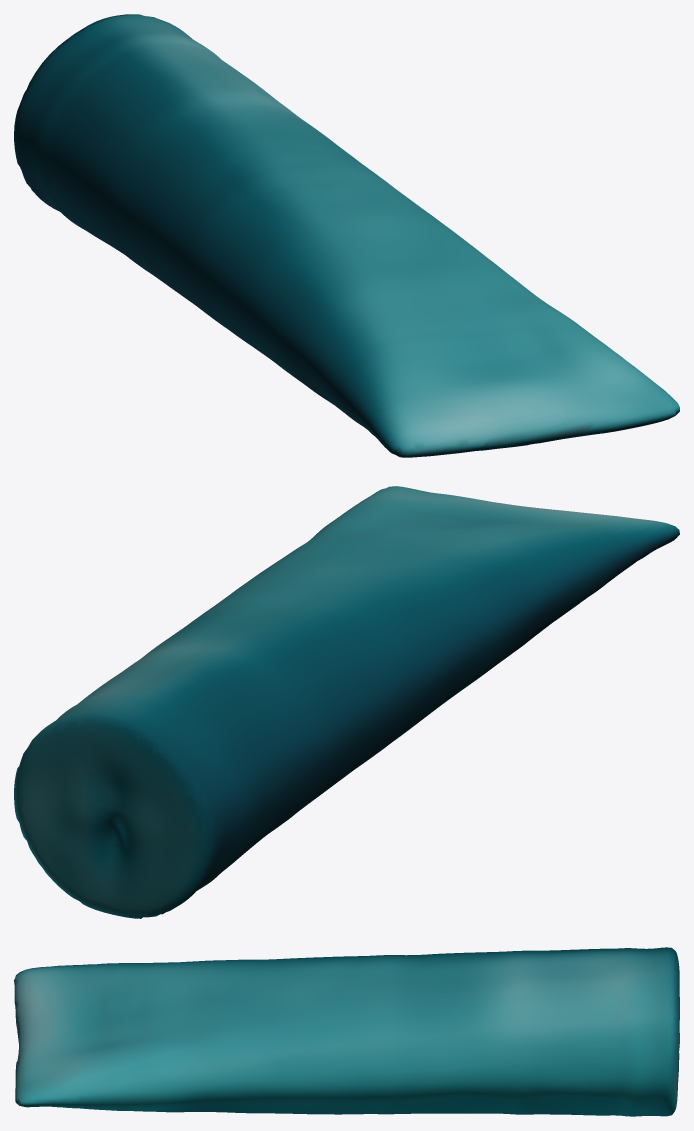
Rendered from oil.glb.
3 renders of one model, top to bottom at view 1: azimuth 30°, elevation 25°; view 2: azimuth 150°, elevation 25°; view 3: azimuth 270°, elevation 25°, orthographic. The views are drawn at different scales.
Bounding box in the file's own units: 0.3881 × 0.2514 × 0.9985.
